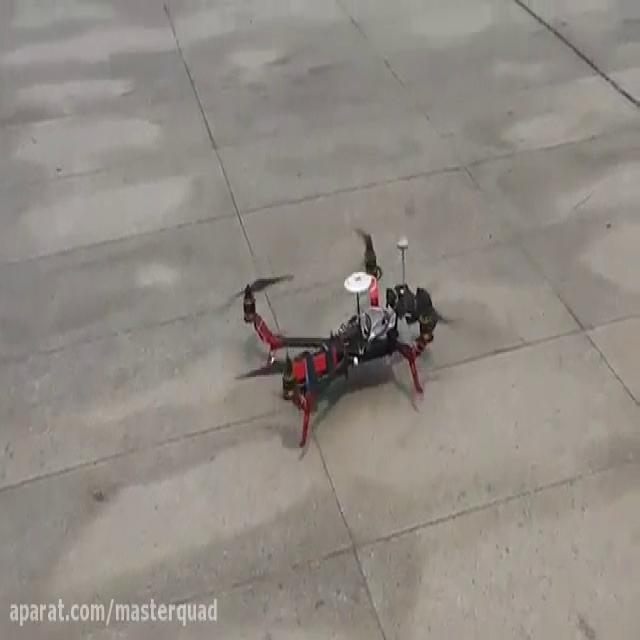drone: (204, 215, 494, 455)
